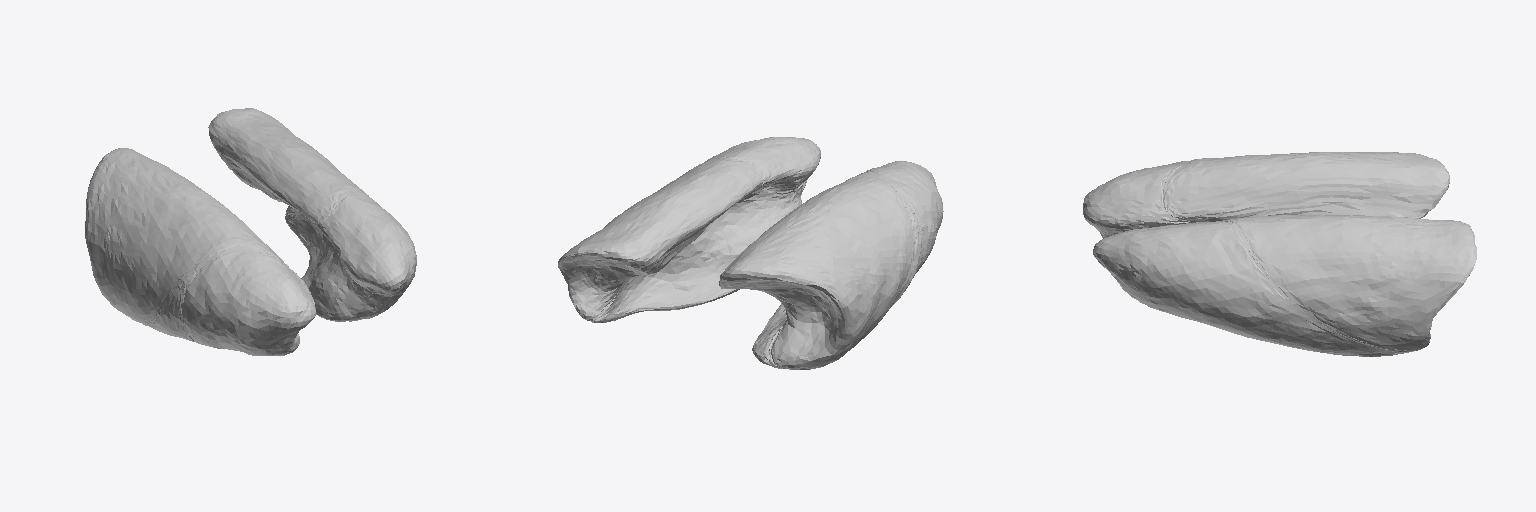
The model's file is lungs_final.obj.
3 views of the same model, side by side, from view 1: azimuth 30°, elevation 25°; view 2: azimuth 150°, elevation 25°; view 3: azimuth 270°, elevation 25° (orthographic).
Visible parts, largest first — view 1: Respiratory_Lungs; view 2: Respiratory_Lungs; view 3: Respiratory_Lungs.
Part boxes in pixels (bbox=[...]): Respiratory_Lungs: bbox=[85, 108, 416, 355]; Respiratory_Lungs: bbox=[558, 137, 943, 369]; Respiratory_Lungs: bbox=[1083, 152, 1476, 356].
Bounding box in the file's own units: 200 × 108 × 273.